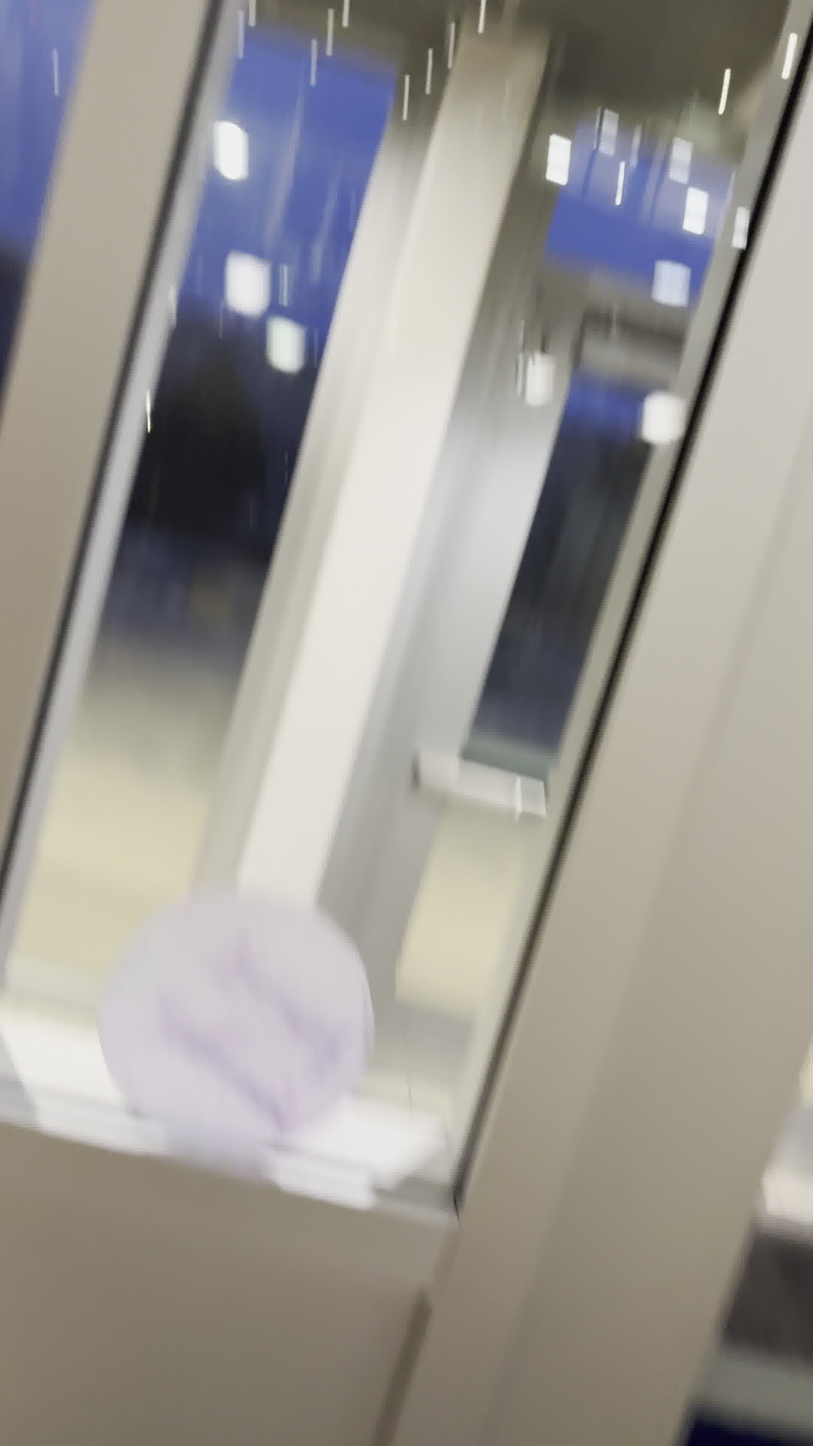Target: (88, 879, 379, 1157)
